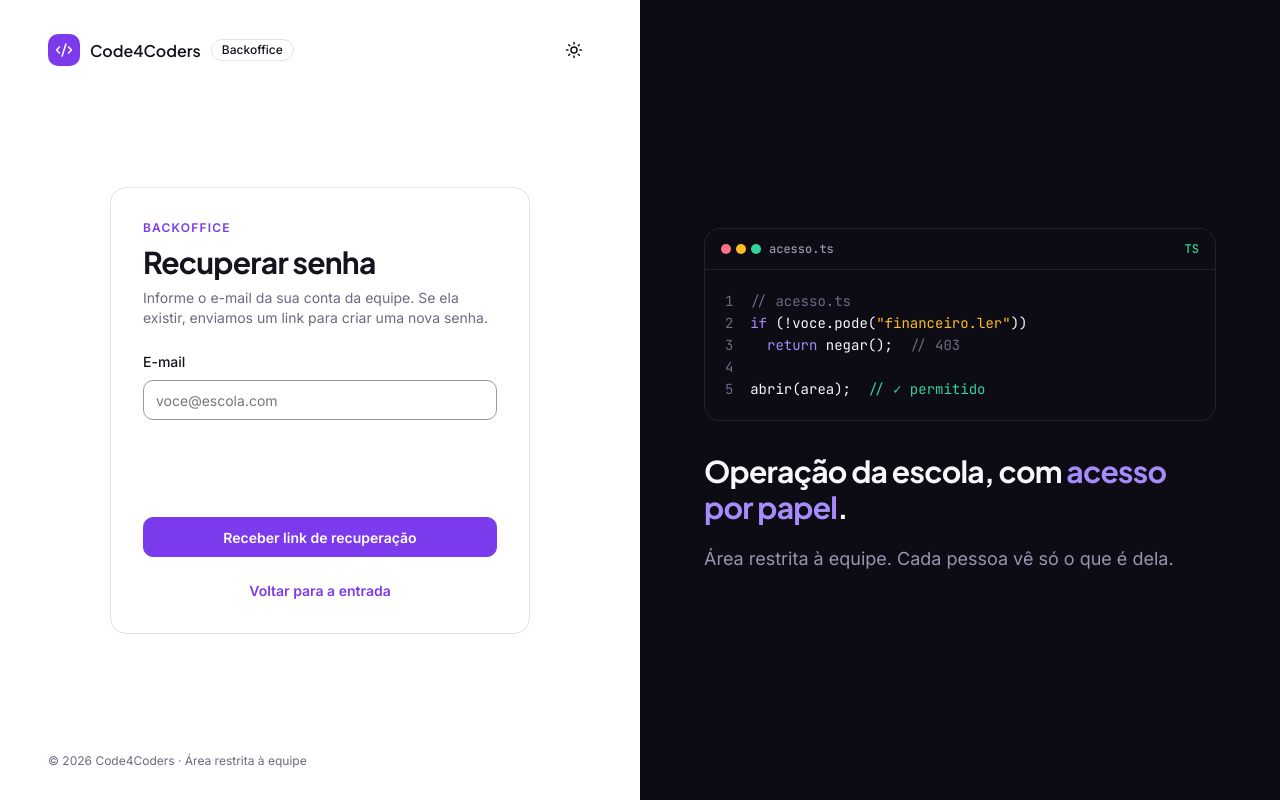
Test: StaffPasswordRecovery › submits the email and shows the same confirmation message
In the field labelled "E-mail": (320, 400) 143,380 -> 497,420, type "marina@example.com"
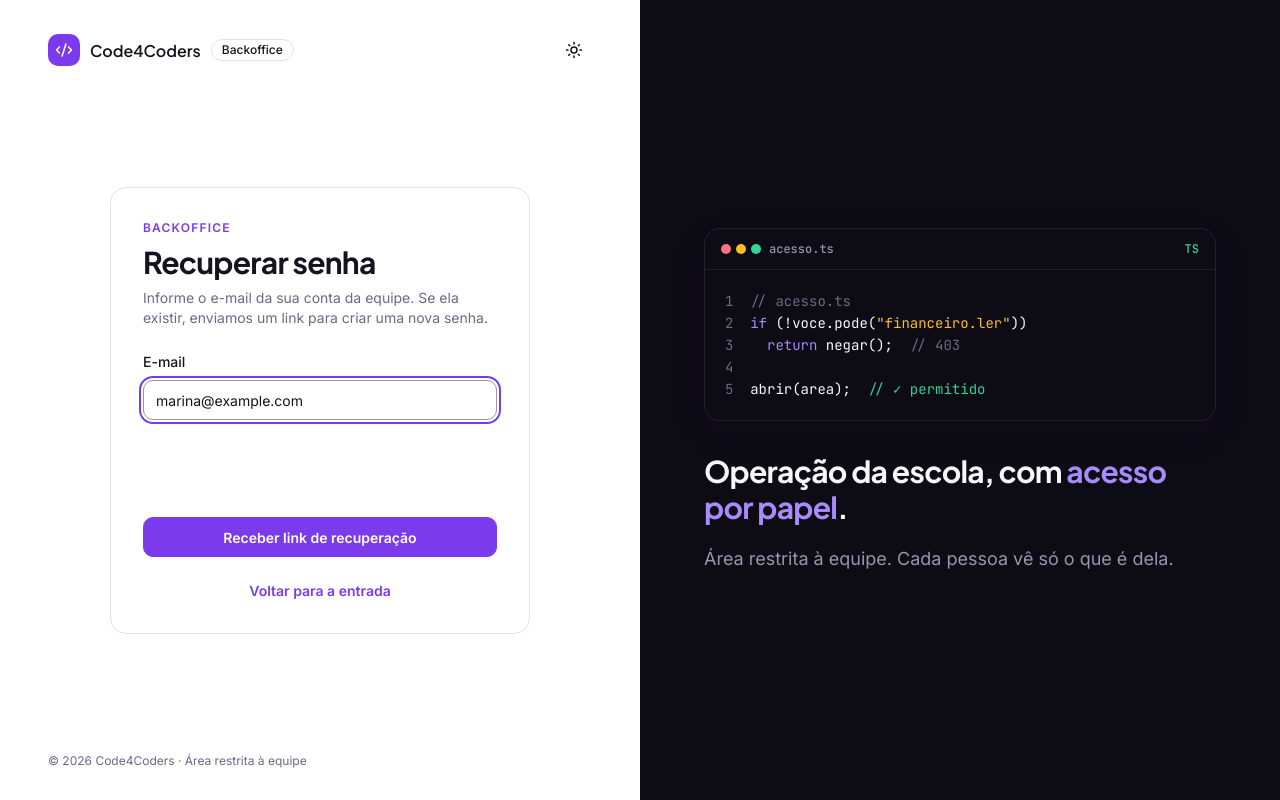
Click the button "Receber link de recuperação": (320, 537) 143,517 -> 497,557
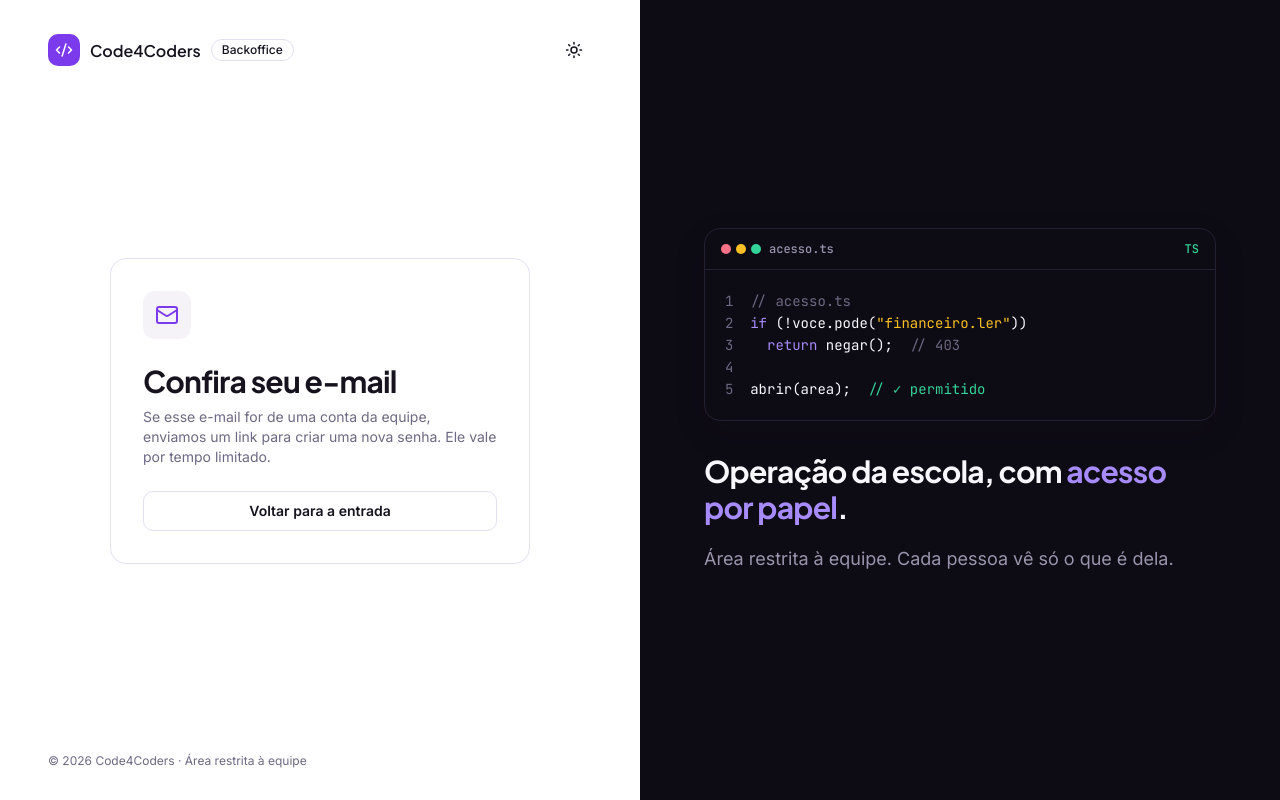
Result: the heading "Confira seu e-mail" is shown at 143,362 -> 397,400
Result: the message shows "Se esse e-mail for de uma conta da equipe, enviamos um link para criar uma nova senha. Ele vale por tempo limitado." at 143,408 -> 496,464
